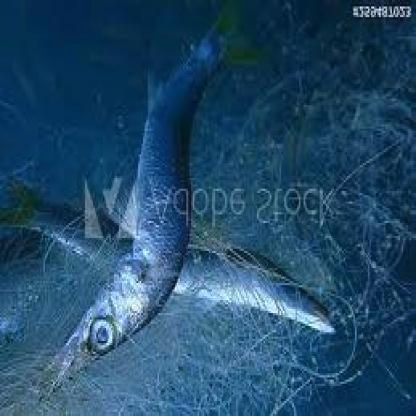net: (1, 203, 358, 416)
